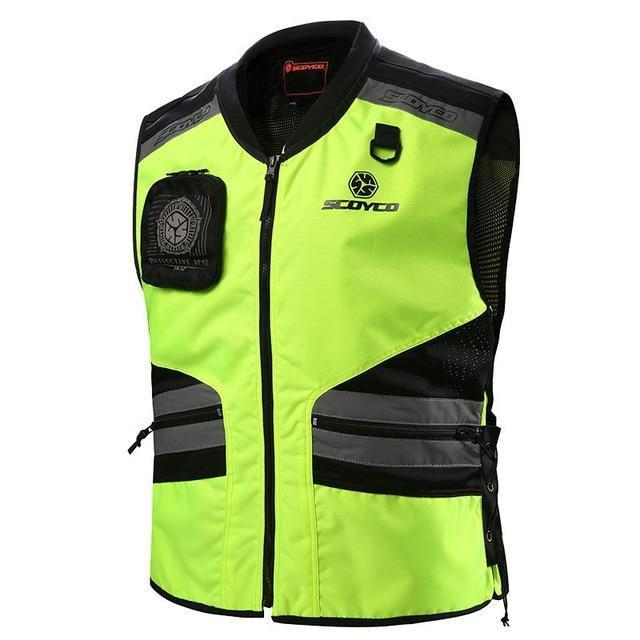vest: (127, 18, 521, 625)
